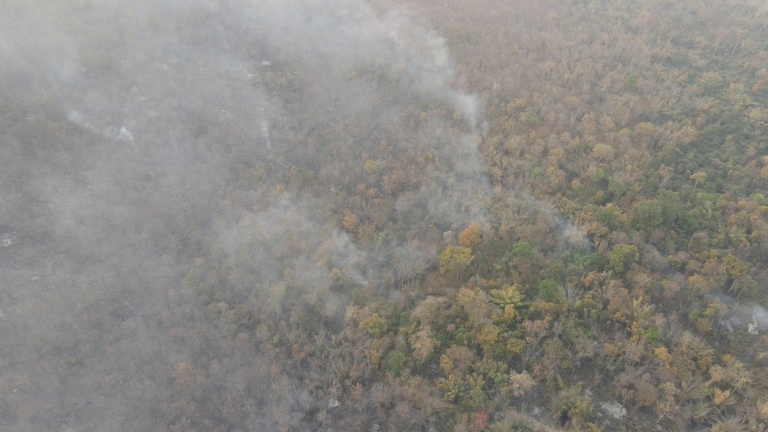smoke: (1, 1, 500, 429), (683, 281, 768, 336), (515, 189, 587, 252)
